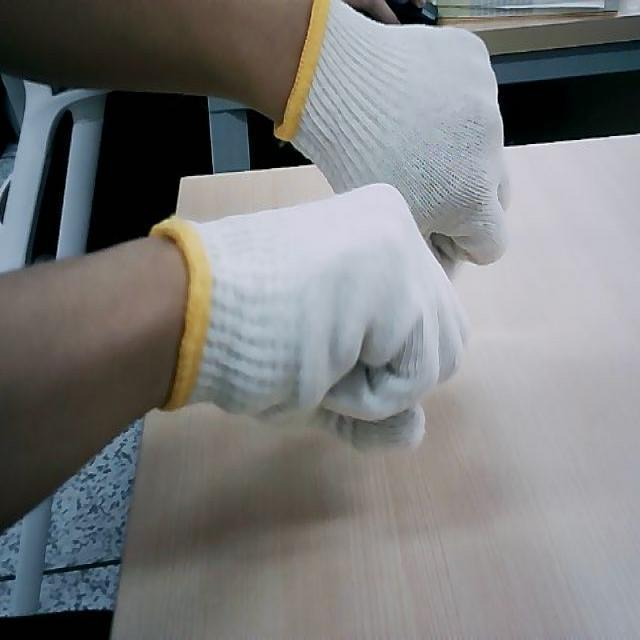Gloves: (151, 0, 518, 462)
